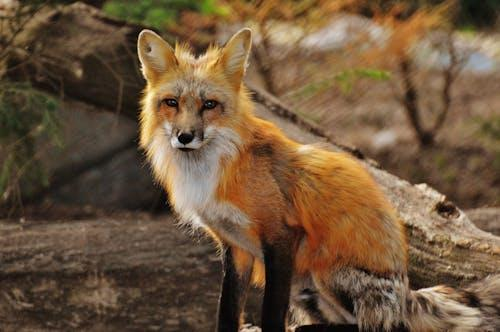fox: (132, 25, 458, 332)
